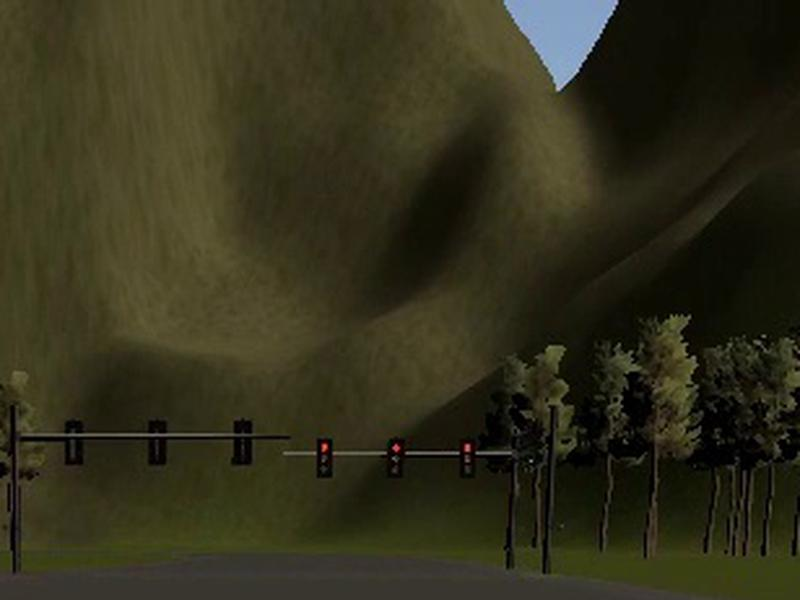Red: (317, 437, 334, 477), (459, 439, 476, 479), (389, 437, 405, 477)
